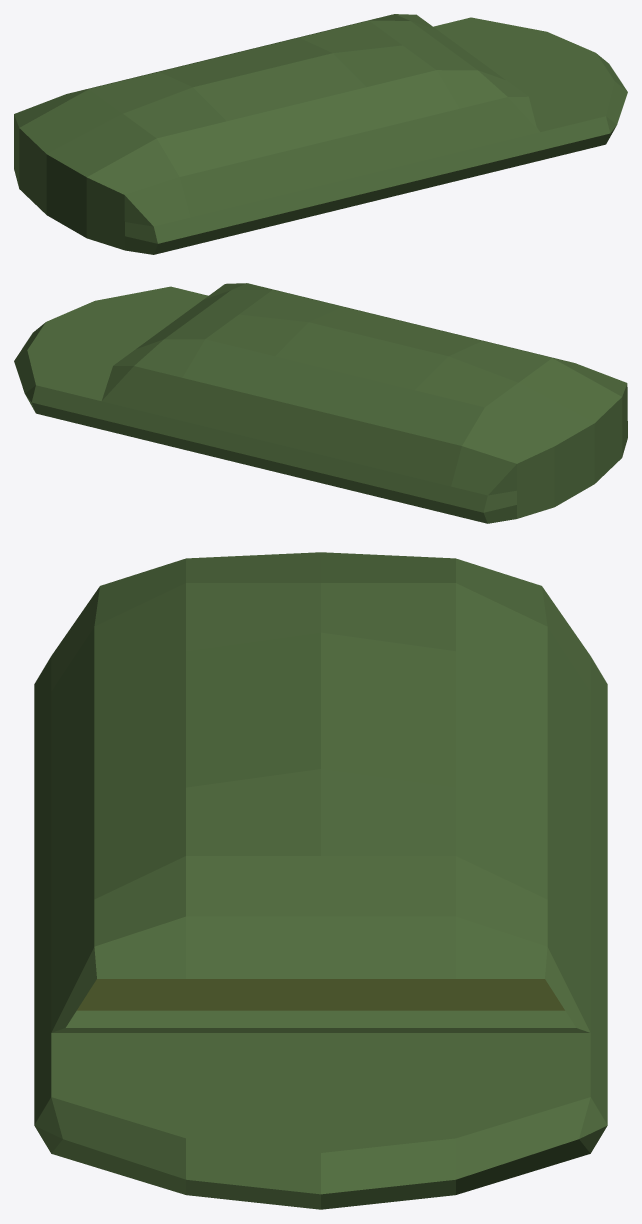
Rendered from Sleeping bag.fbx.
The picture shows the model from 3 angles, top to bottom: view 1: azimuth 30°, elevation 25°; view 2: azimuth 150°, elevation 25°; view 3: azimuth 270°, elevation 25°; orthographic projection. The views are drawn at different scales.
Parts seen in each view (by area): view 1: Sleeping bag; view 2: Sleeping bag; view 3: Sleeping bag.
Part boxes in pixels (<box>): Sleeping bag: <box>14,14,627,254</box>; Sleeping bag: <box>14,283,627,523</box>; Sleeping bag: <box>34,552,607,1209</box>.
Bounding box in the file's own units: 154 × 24.14 × 68.11.
